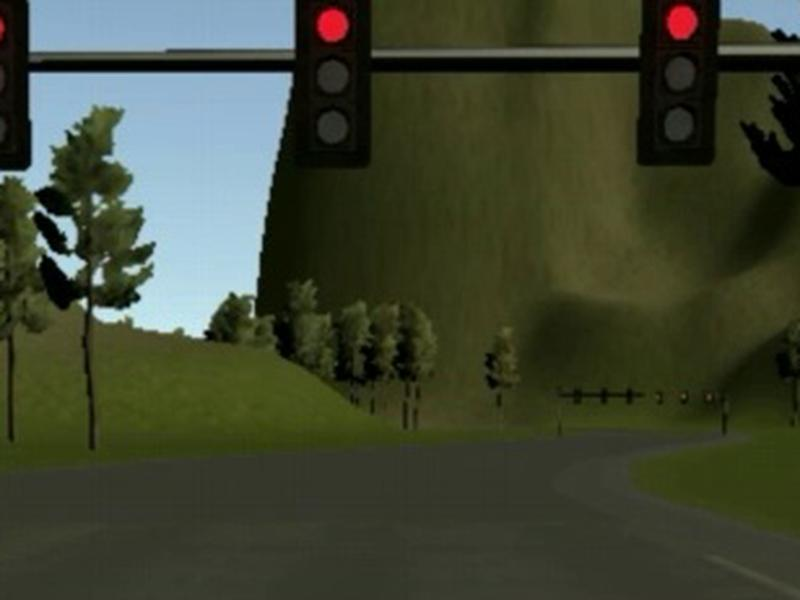Red: (637, 1, 721, 164), (294, 1, 372, 169), (1, 1, 31, 171)
